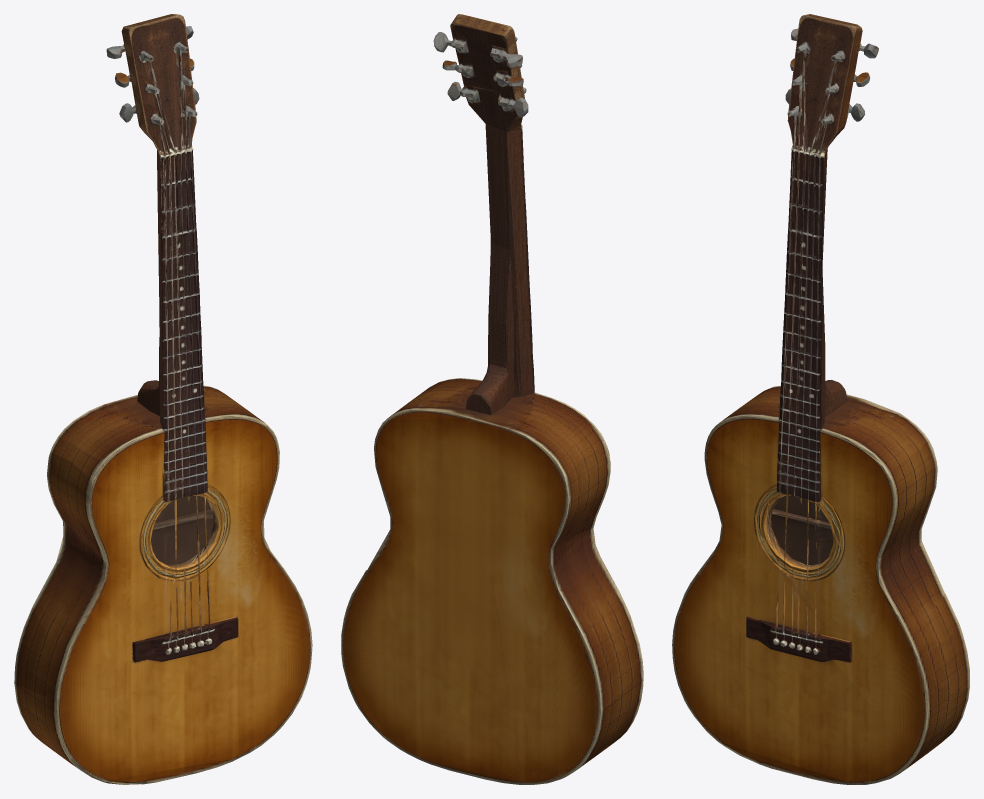
Rendered from guitarsolo.glb.
The picture shows the model from 3 angles, left to right: view 1: azimuth 30°, elevation 25°; view 2: azimuth 150°, elevation 25°; view 3: azimuth 330°, elevation 25°; orthographic projection.
Parts seen in each view (by area): view 1: Mesh_0; view 2: Mesh_0; view 3: Mesh_0.
Boxes of the visible parts, <box> form: Mesh_0: <box>14,14,312,784</box>; Mesh_0: <box>341,14,643,784</box>; Mesh_0: <box>672,14,969,784</box>.
Bounding box in the file's own units: 0.6949 × 1.9 × 0.2269.
1 material, 1 textured.
